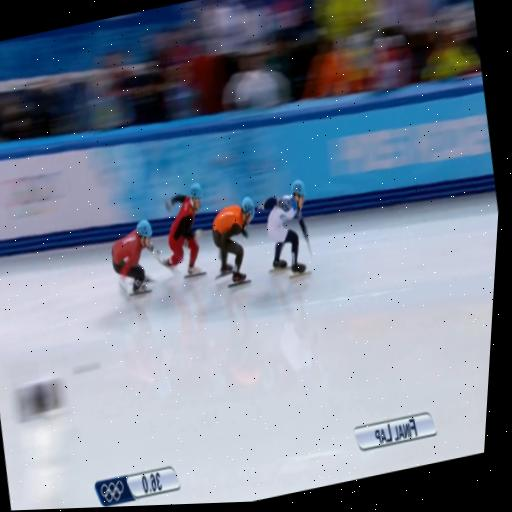Skater: (258, 180, 309, 273), (158, 183, 203, 276), (212, 197, 254, 285), (111, 220, 157, 295)
